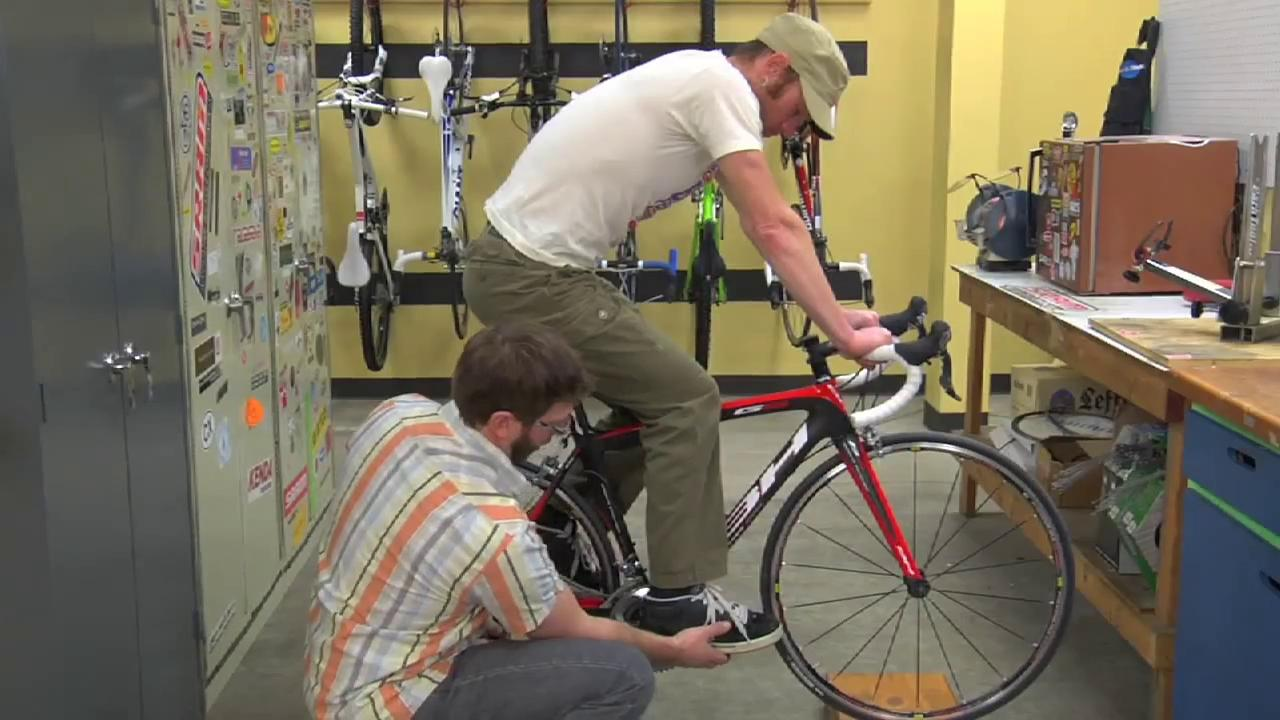victim: (299, 322, 733, 720)
